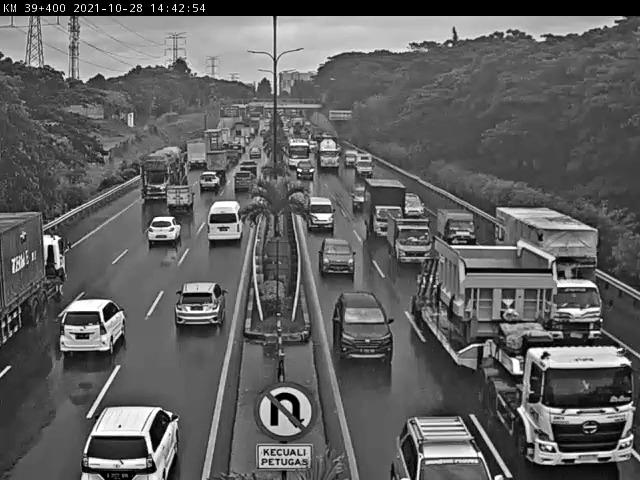big truck: (411, 237, 640, 480), (494, 207, 605, 341), (143, 144, 191, 196)
car: (81, 406, 181, 480), (333, 291, 396, 370), (58, 298, 128, 354), (174, 283, 228, 328), (207, 199, 246, 246), (318, 236, 358, 280), (305, 196, 337, 233), (147, 215, 181, 244), (166, 182, 195, 214)
small truck: (384, 208, 437, 266), (364, 175, 408, 243)
